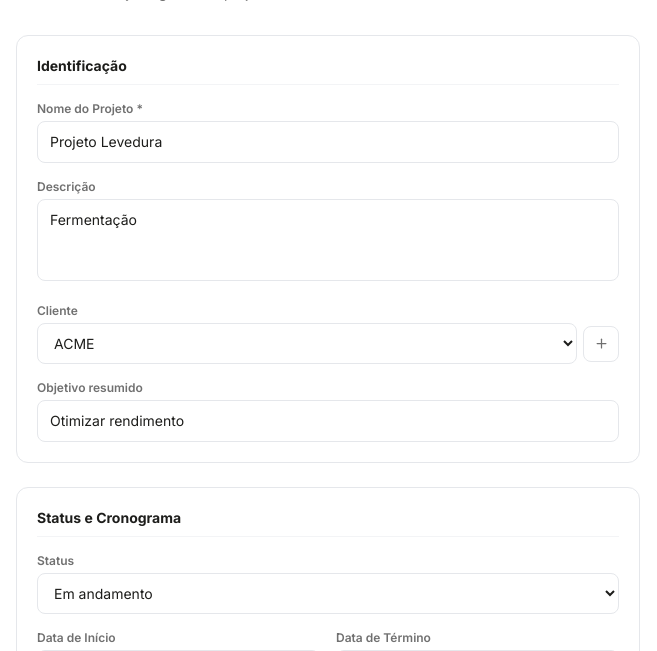
ProjectSettingsClient › should require a name
This screenshot has width=657, height=651.
Clear the field labelled "Nome do Projeto *" at (328, 142), box [37, 121, 619, 163]
(page scrolled)
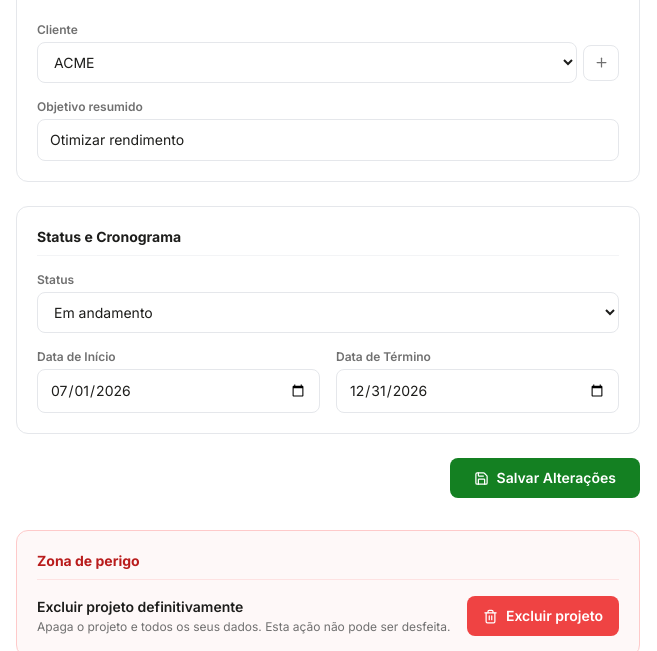
Click the button "Salvar Alterações".
click(545, 478)  # box [450, 458, 640, 498]
(page scrolled)
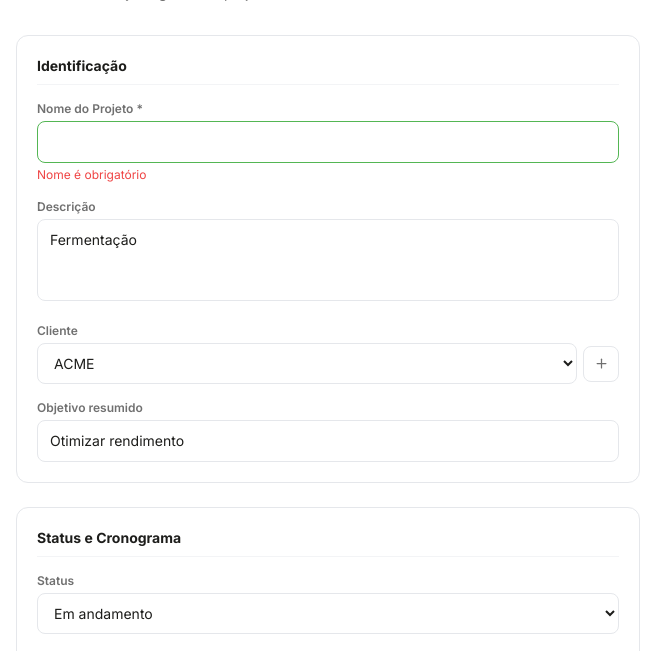
Now the text "Nome é obrigatório" is shown, box [37, 167, 146, 182]
